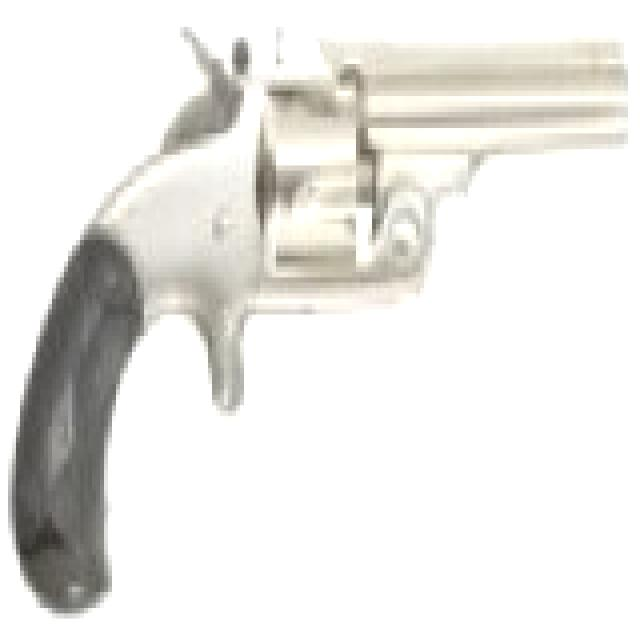pistol: (16, 11, 616, 608)
